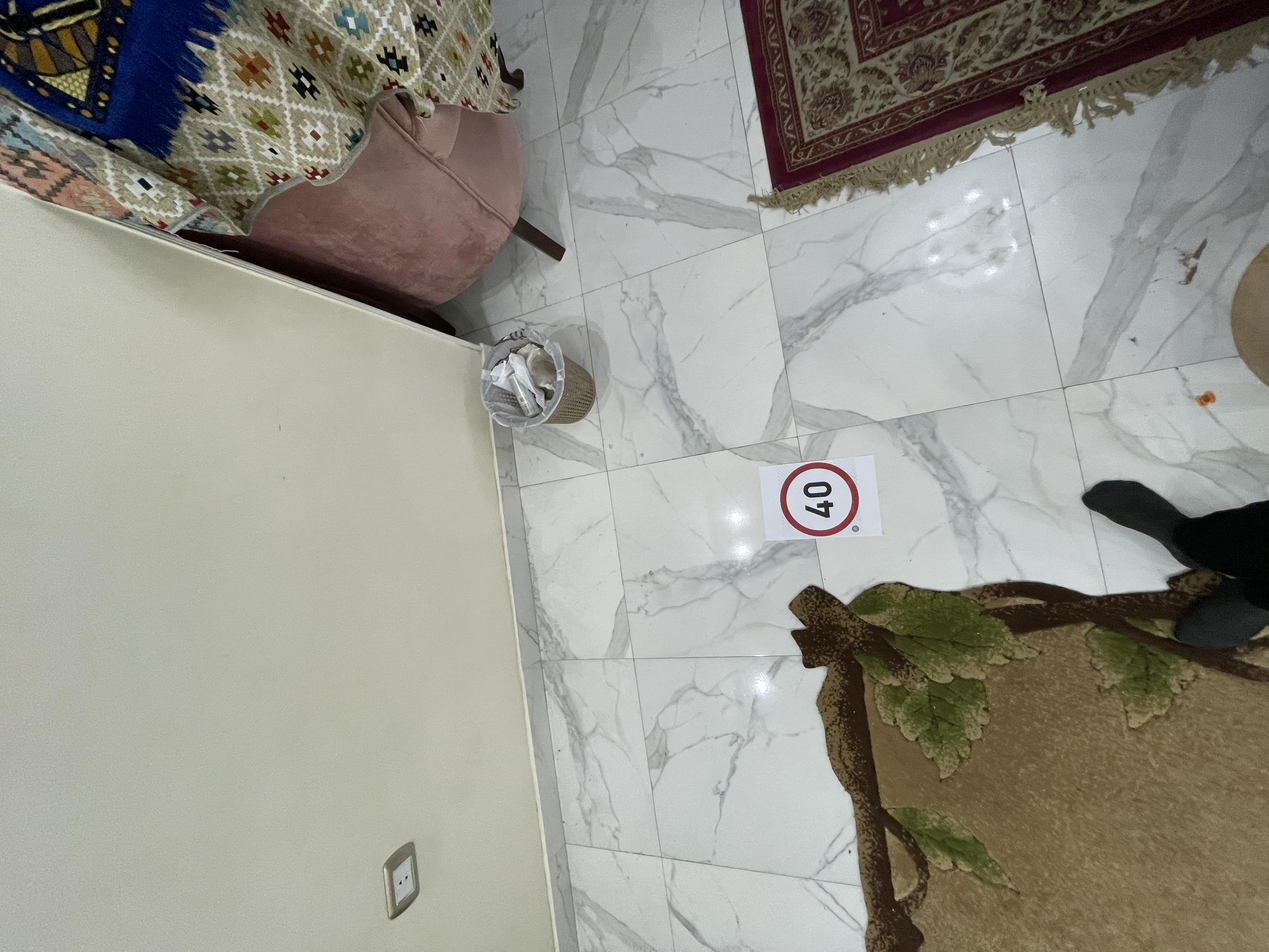40-Speed: (551, 584, 659, 645)
